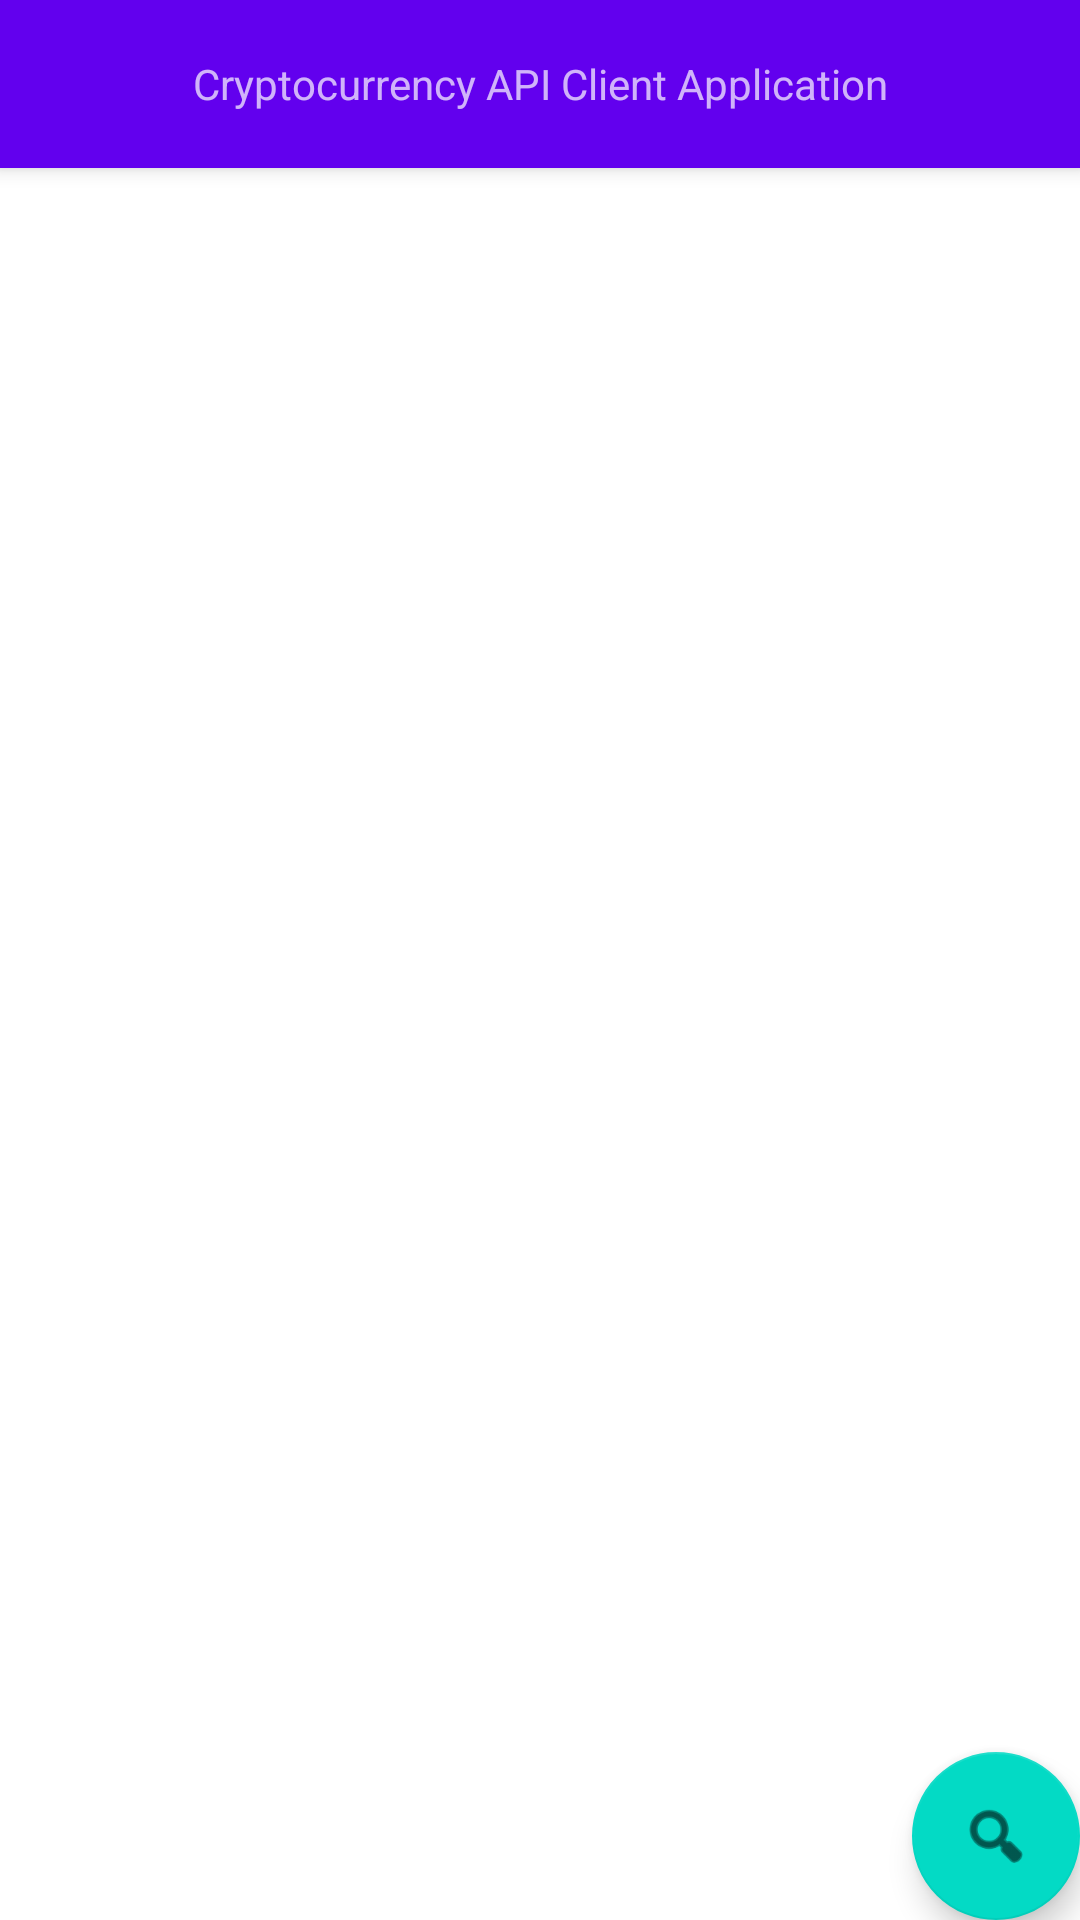

Icons on this 1080×1920 Android screen, each with the point to tap as [x,y]:
search: [996,1836]
